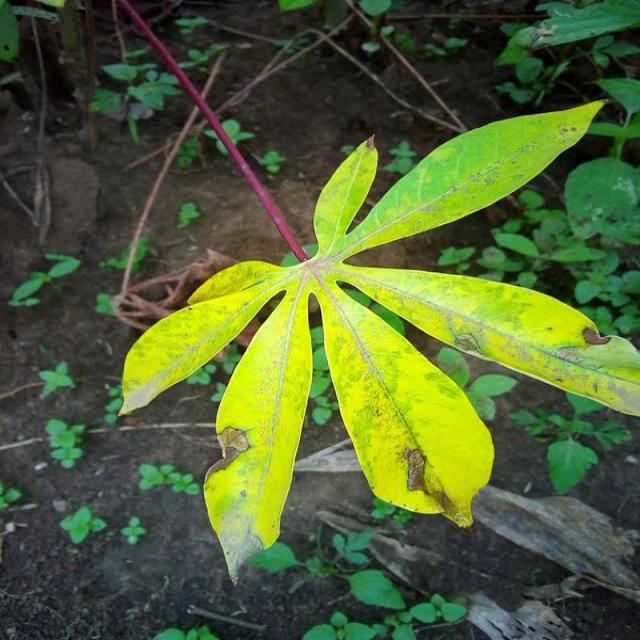cassava leaf: (117, 96, 638, 586)
